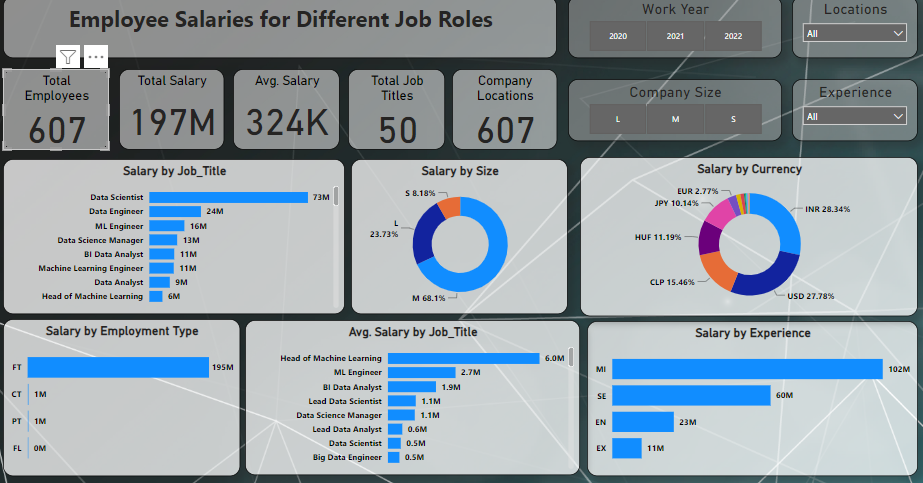

This screenshot's page, from the dashboard's own definition file:
{"tool":"powerbi","page":{"name":"Page 1","canvas":[1360,720],"ordinal":0},"visuals":[{"type":"textbox","box":[11.7,7.3,810.2,90.7],"z":0},{"type":"card","title":"Total Employees","fields":{"Values":["Sum(ds_salaries.Index.1)"]},"box":[11.7,114.1,155,118.5],"z":1000},{"type":"card","title":"Avg. Salary","fields":{"Values":["Avg(ds_salaries.salary)"]},"box":[348,114.1,156.5,118.5],"z":2000},{"type":"card","title":"Total Job Titles","fields":{"Values":["Count(ds_salaries.job_title)"]},"box":[516.2,114.1,141.8,118.5],"z":3000},{"type":"card","title":"Total Salary","fields":{"Values":["Sum(ds_salaries.salary)"]},"box":[181.3,114.1,153.5,118.5],"z":4000},{"type":"card","title":"Company Locations","fields":{"Values":["CountNonNull(ds_salaries.company_location)"]},"box":[668.3,114.1,153.5,118.5],"z":5000},{"type":"clusteredBarChart","title":"Salary by Job_Title","fields":{"Category":["ds_salaries.job_title"],"Y":["Sum(ds_salaries.salary)"]},"box":[11.7,245.7,500.1,226.7],"z":6000},{"type":"clusteredBarChart","title":"Salary by Experience","fields":{"Y":["Sum(ds_salaries.salary)"],"Category":["ds_salaries.experience_level"]},"box":[865.7,482.6,484,226.7],"z":7000},{"type":"donutChart","title":"Salary by Currency","fields":{"Category":["ds_salaries.salary_currency"],"Y":["Sum(ds_salaries.salary)"]},"box":[855.5,242.8,494.3,232.5],"z":8000},{"type":"slicer","title":"Company Size","fields":{"Values":["ds_salaries.company_size"]},"box":[837.9,128.7,312.9,90.7],"z":9000},{"type":"slicer","title":"Experience","fields":{"Values":["ds_salaries.experience_level"]},"box":[1165.5,128.7,184.3,90.7],"z":10000},{"type":"slicer","title":"Locations","fields":{"Values":["ds_salaries.company_location"]},"box":[1165.5,7.3,184.3,90.7],"z":11000},{"type":"slicer","title":"Work Year","fields":{"Values":["ds_salaries.work_year"]},"box":[837.9,7.3,312.9,90.7],"z":12000},{"type":"donutChart","title":"Salary by Size","fields":{"Y":["Sum(ds_salaries.Index.1)"],"Category":["ds_salaries.company_size"]},"box":[520.6,245.7,317.3,226.7],"z":12001},{"type":"barChart","title":"Salary by Employment Type","fields":{"Category":["ds_salaries.employment_type"],"Y":["Sum(ds_salaries.salary)"]},"box":[11.7,479.7,346.6,229.6],"z":12002},{"type":"clusteredBarChart","title":"Avg. Salary by Job_Title","fields":{"Category":["ds_salaries.job_title"],"Y":["Avg(ds_salaries.salary)"]},"box":[365.6,481.1,489.9,226.7],"z":12003}]}

Visuals, with their boxes in screenshot pixels (x1, y1, x2, y2), scaled from the page's 1360x720 canvas onto the 923x483 screenshot:
textbox: l=8, t=5, r=558, b=66
"Total Employees" card: l=8, t=77, r=113, b=156
"Avg. Salary" card: l=236, t=77, r=342, b=156
"Total Job Titles" card: l=350, t=77, r=447, b=156
"Total Salary" card: l=123, t=77, r=227, b=156
"Company Locations" card: l=454, t=77, r=558, b=156
"Salary by Job_Title" clusteredBarChart: l=8, t=165, r=347, b=317
"Salary by Experience" clusteredBarChart: l=588, t=324, r=916, b=476
"Salary by Currency" donutChart: l=581, t=163, r=916, b=319
"Company Size" slicer: l=569, t=86, r=781, b=147
"Experience" slicer: l=791, t=86, r=916, b=147
"Locations" slicer: l=791, t=5, r=916, b=66
"Work Year" slicer: l=569, t=5, r=781, b=66
"Salary by Size" donutChart: l=353, t=165, r=569, b=317
"Salary by Employment Type" barChart: l=8, t=322, r=243, b=476
"Avg. Salary by Job_Title" clusteredBarChart: l=248, t=323, r=581, b=475
